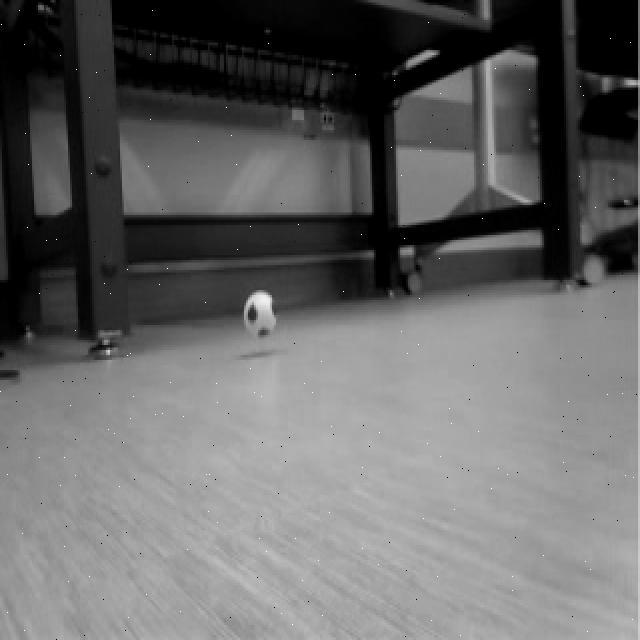ping-pong-ball: (240, 286, 284, 348)
